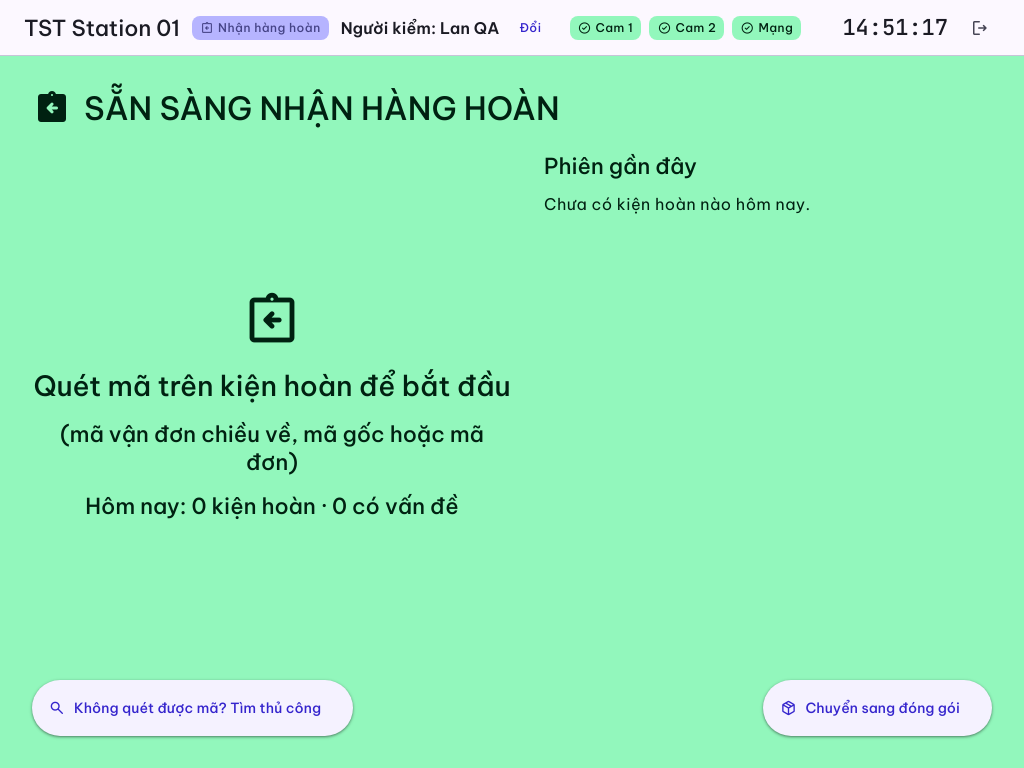
Test: TC-04.08 + 04.09: mã lạ → R4 KHÔNG TÌM THẤY ĐƠN (2 nút, 2 bíp) → Mở phiên chưa xác định → R2
Expected: the heading "SẴN SÀNG NHẬN HÀNG HOÀN" is shown, x1=32 y1=88 x2=560 y2=128
Type keys "SPXVN0000000000{Enter}"
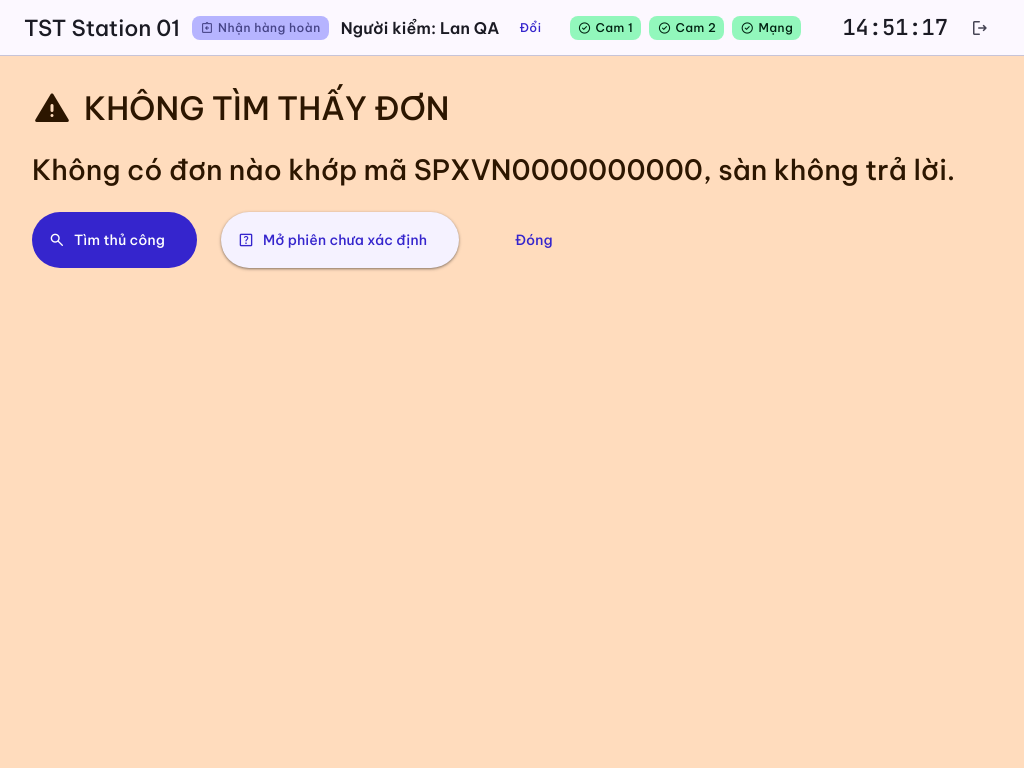
Expected: the button "Tìm thủ công" is shown, x1=32 y1=212 x2=197 y2=268
Expected: the heading "KHÔNG TÌM THẤY ĐƠN" is shown, x1=32 y1=88 x2=450 y2=128
Click the button "Mở phiên chưa xác định": point(340, 240) x1=221 y1=212 x2=459 y2=268
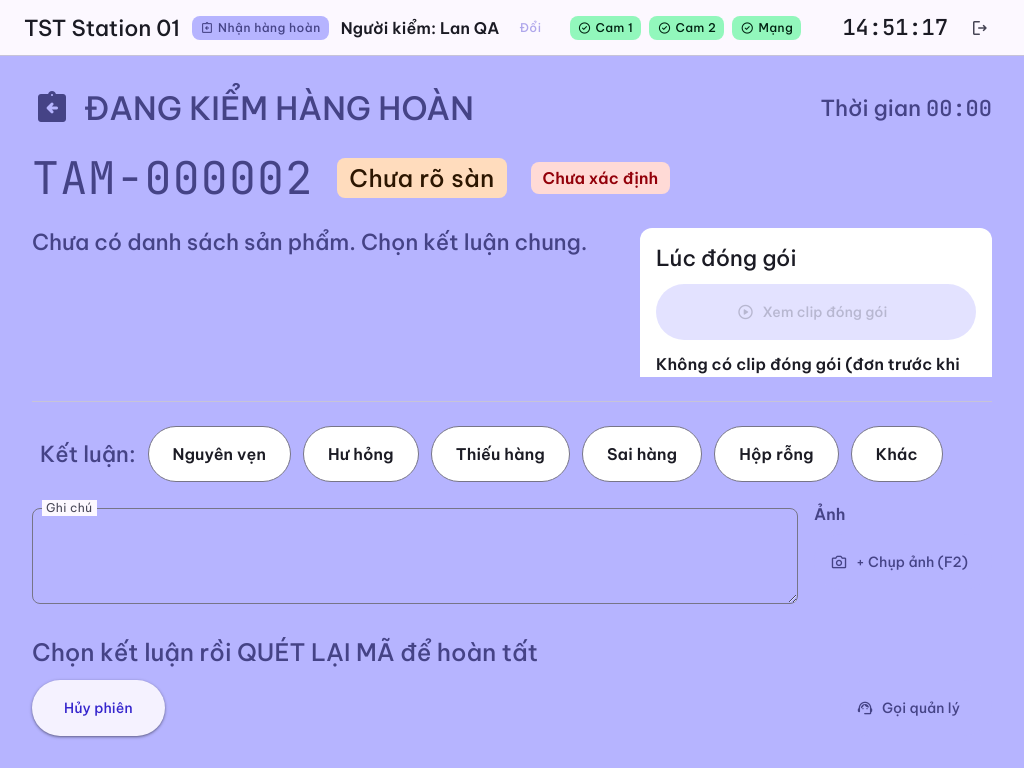
Expected: the text "Chưa xác định" is shown, x1=543 y1=166 x2=658 y2=190
Expected: the heading "ĐANG KIỂM HÀNG HOÀN" is shown, x1=32 y1=88 x2=474 y2=128
Expected: the text "Chưa có danh sách sản phẩm. Chọn kết luận chung." is shown, x1=32 y1=228 x2=587 y2=256
